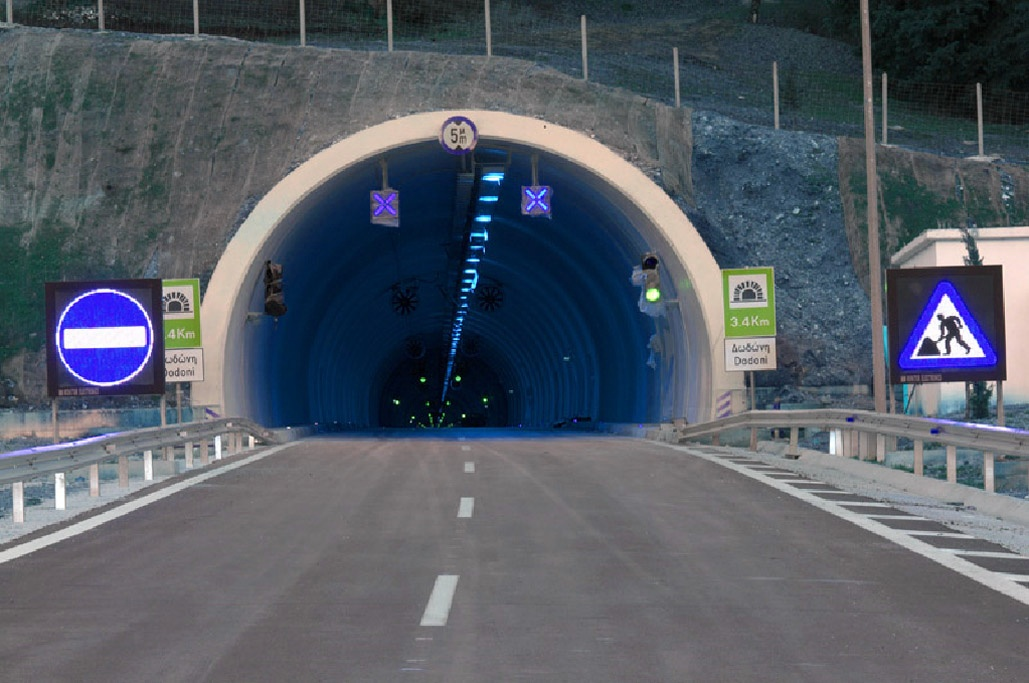Real_Tunnel: (150, 105, 768, 456)
